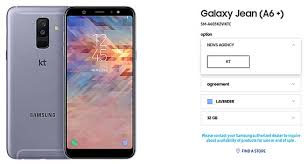samsung: (61, 4, 137, 162), (5, 3, 67, 160)
